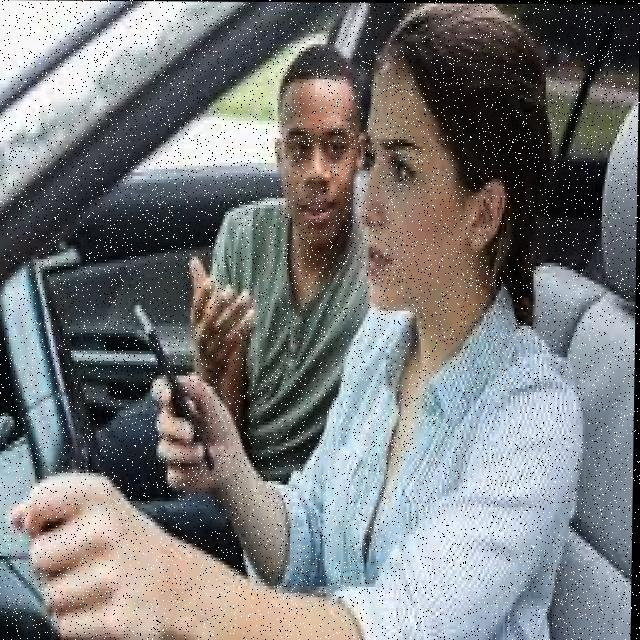noSeatbelt: (300, 299, 580, 640), (195, 199, 381, 473)
